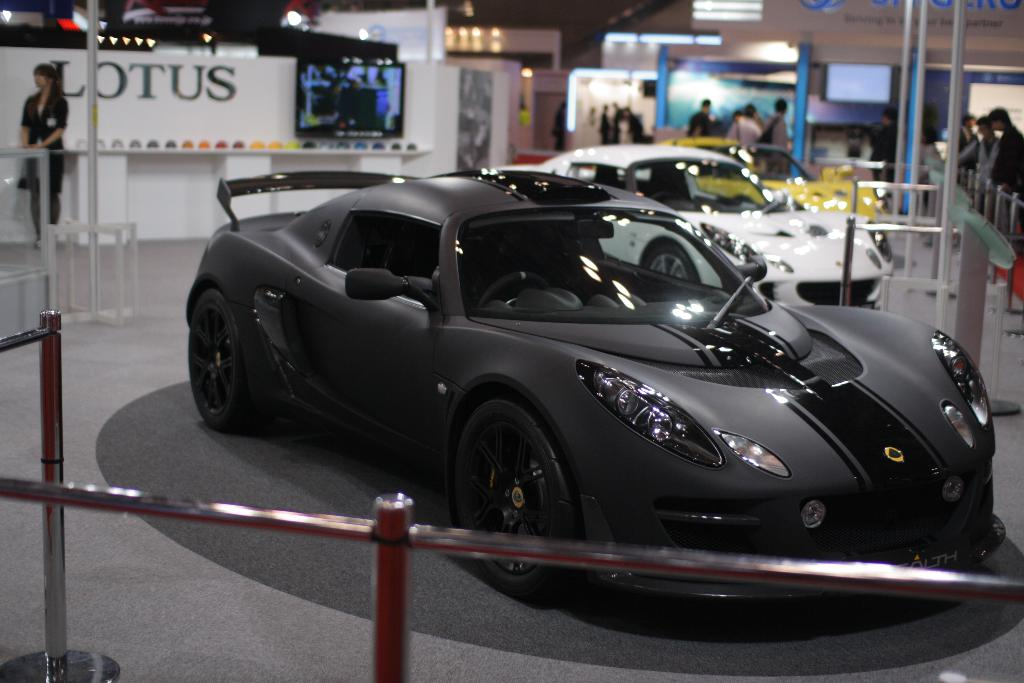Car: (179, 158, 933, 596), (495, 144, 888, 312), (695, 164, 888, 236)
